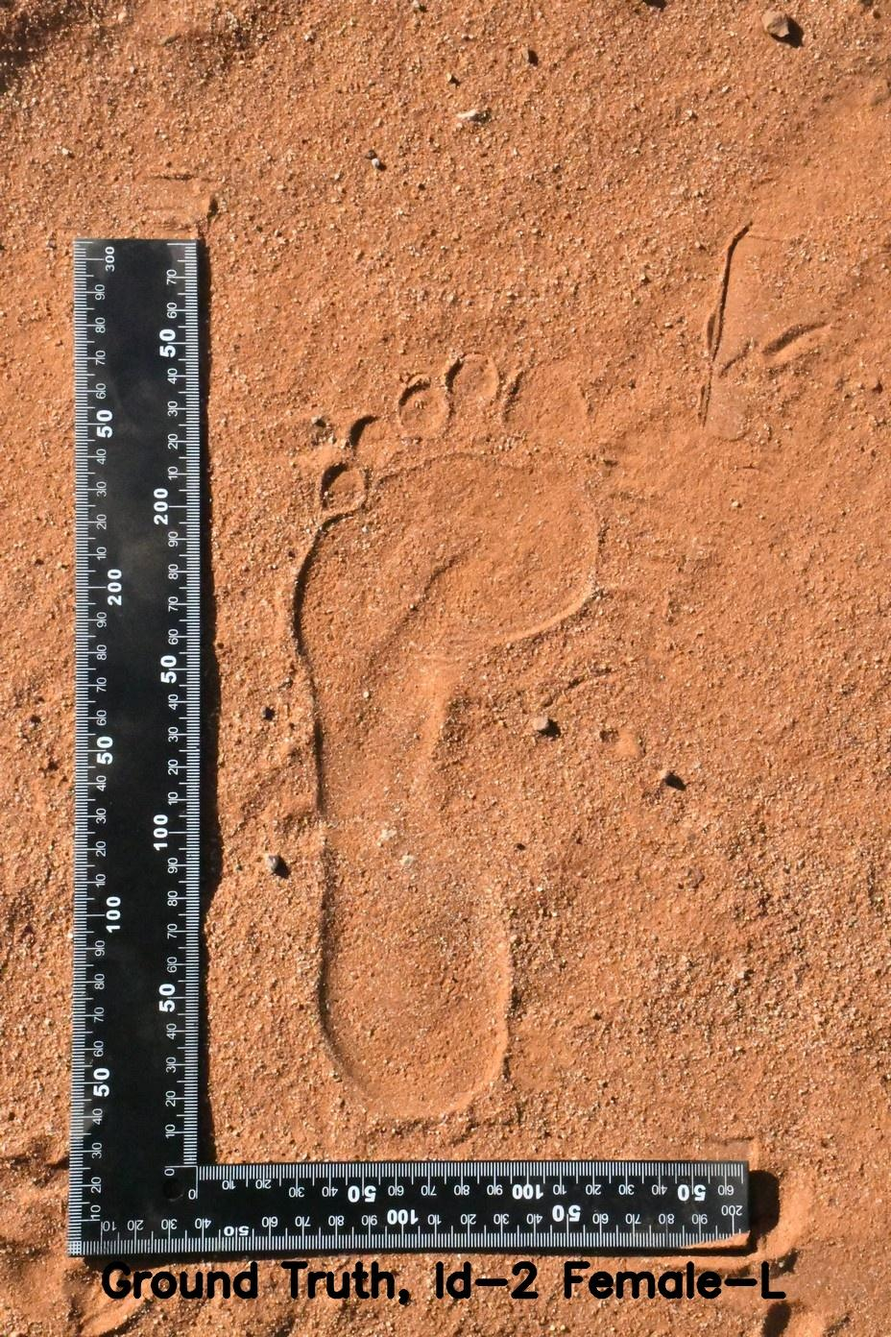human_footprint: (263, 295, 638, 1136)
